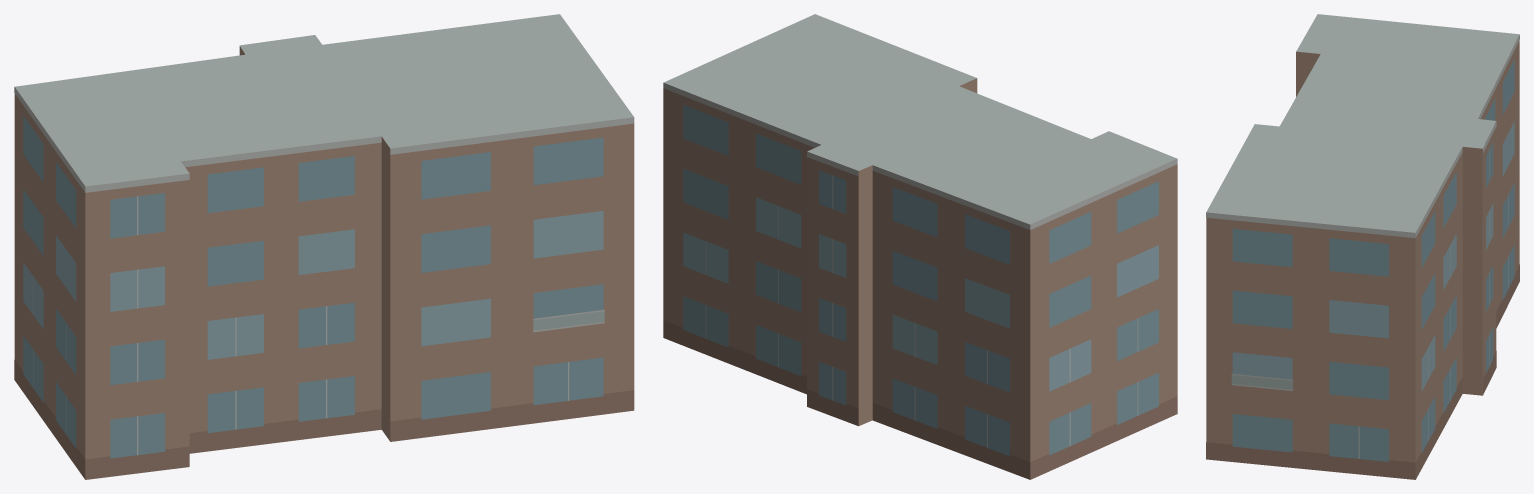
Rendered from survey-upis-32964953.glb.
3 renders of one model, left to right at view 1: azimuth 30°, elevation 25°; view 2: azimuth 150°, elevation 25°; view 3: azimuth 270°, elevation 25°, orthographic. The views are drawn at different scales.
Parts seen in each view (by area): view 1: survey-upis-32964953.tmp; view 2: survey-upis-32964953.tmp; view 3: survey-upis-32964953.tmp.
Boxes of the visible parts, <box> form: survey-upis-32964953.tmp: <box>14,14,634,479</box>; survey-upis-32964953.tmp: <box>663,14,1177,479</box>; survey-upis-32964953.tmp: <box>1206,14,1519,479</box>.
Size of the model in its own units: 21.62 by 11.37 by 13.1.
